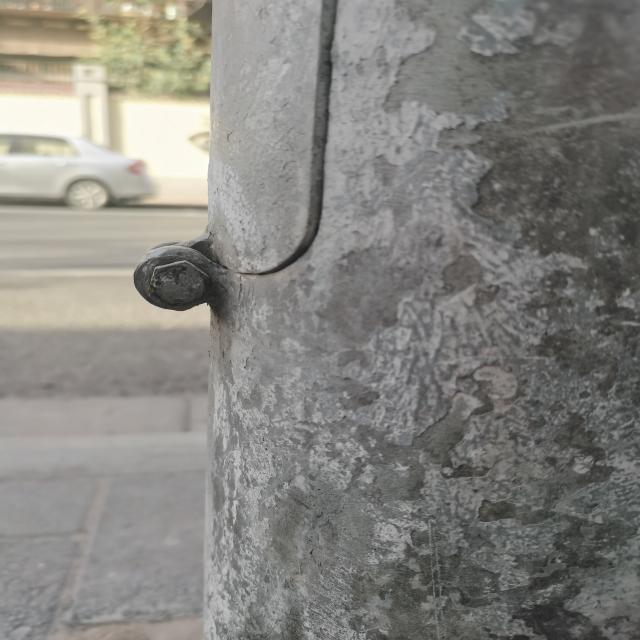bolt head: (145, 258, 211, 308)
